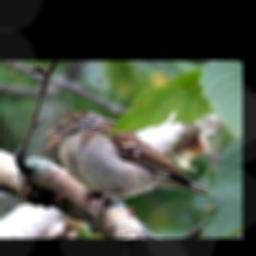Sparrow: (38, 109, 210, 215)
